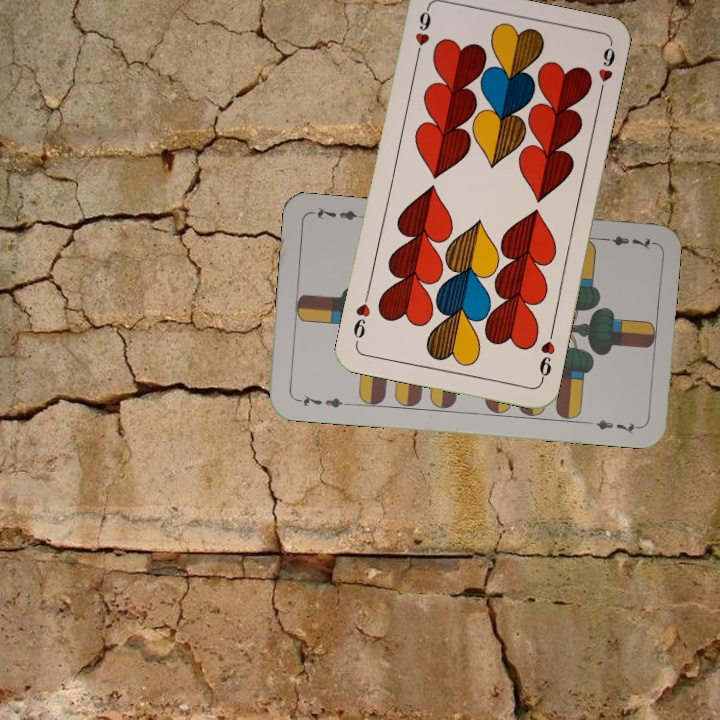E7: (292, 390, 352, 411), (596, 232, 655, 252)
H9: (535, 326, 558, 385), (411, 4, 434, 63)
